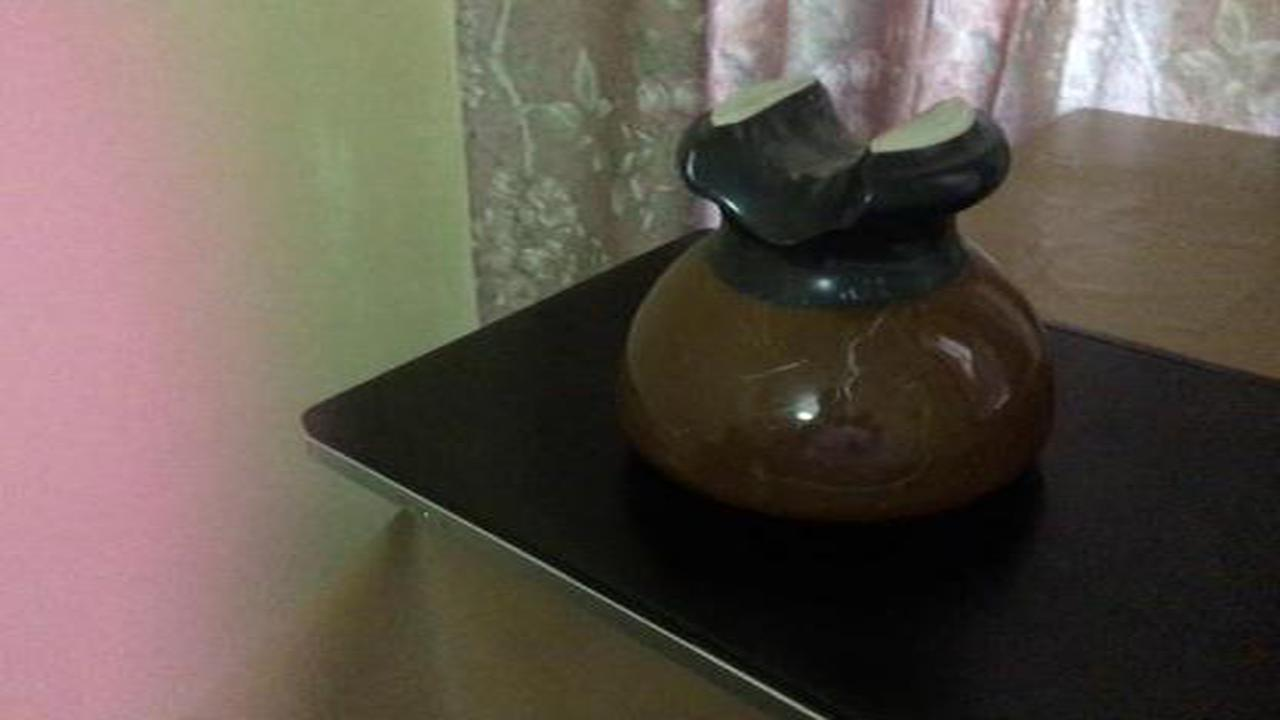insulator_pin: (594, 66, 1090, 544)
